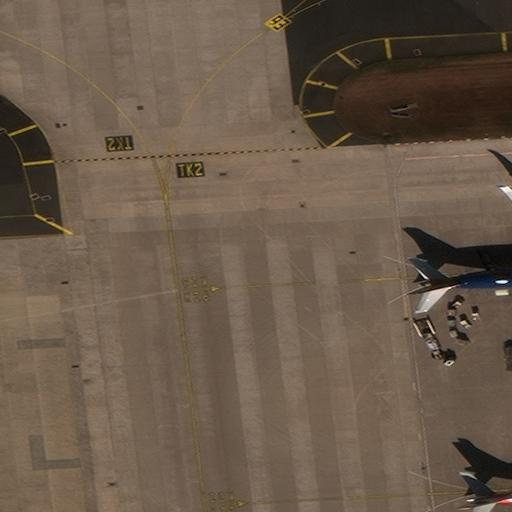Large Civil Transport: (407, 185, 511, 360), (465, 447, 511, 511)
